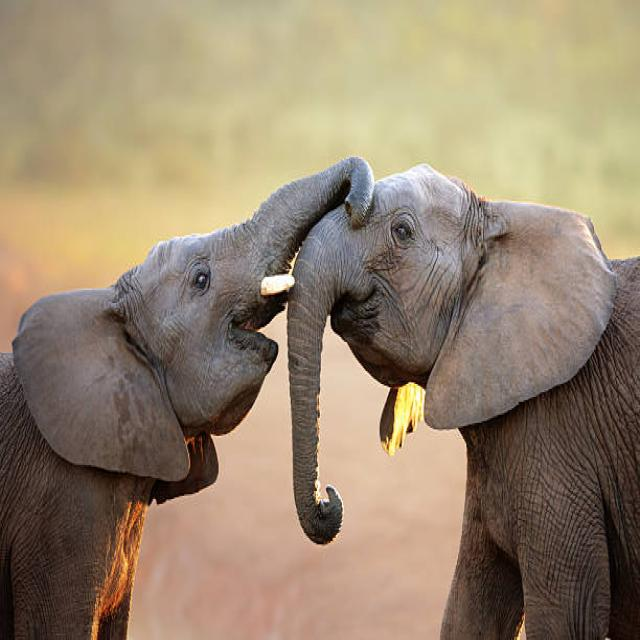Animal: (222, 134, 640, 639), (5, 212, 306, 640)
